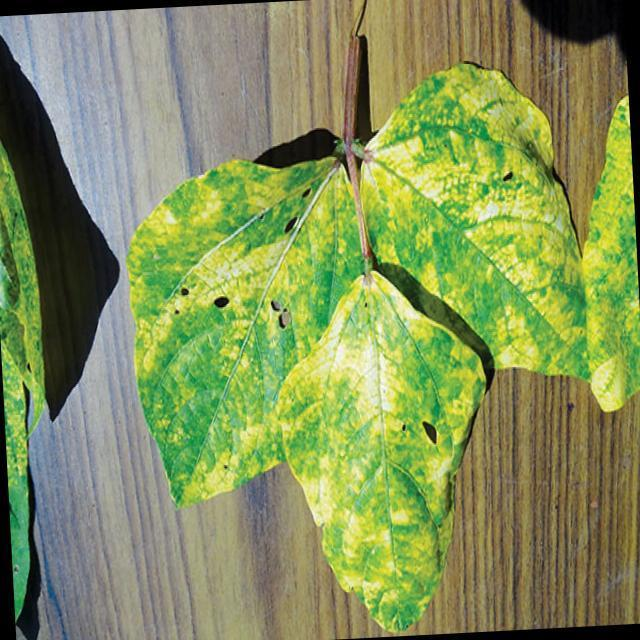Mosaic Virus: (146, 166, 367, 485), (384, 56, 578, 391), (290, 324, 458, 621), (577, 106, 640, 404)
